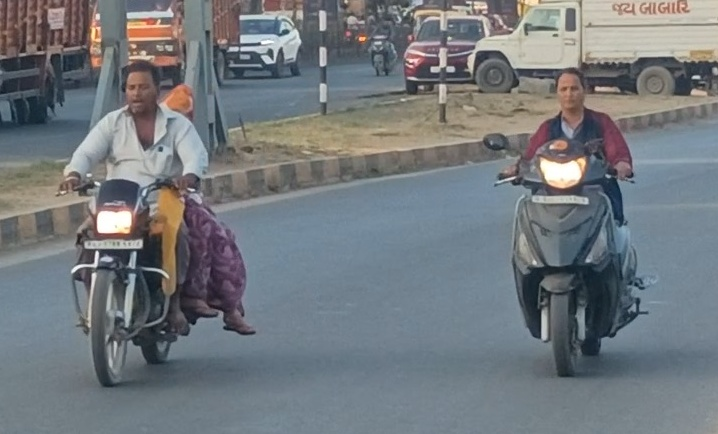BikeWithRider: (52, 51, 261, 391), (457, 60, 667, 386), (369, 10, 399, 85)
NoHelmet: (107, 55, 165, 116), (542, 63, 601, 118), (159, 78, 207, 127)
